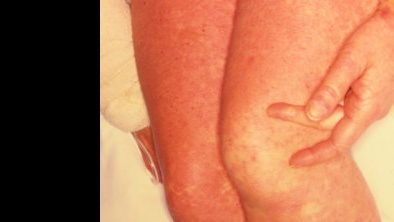SJS-TEN: (129, 0, 257, 222), (209, 0, 300, 175)
